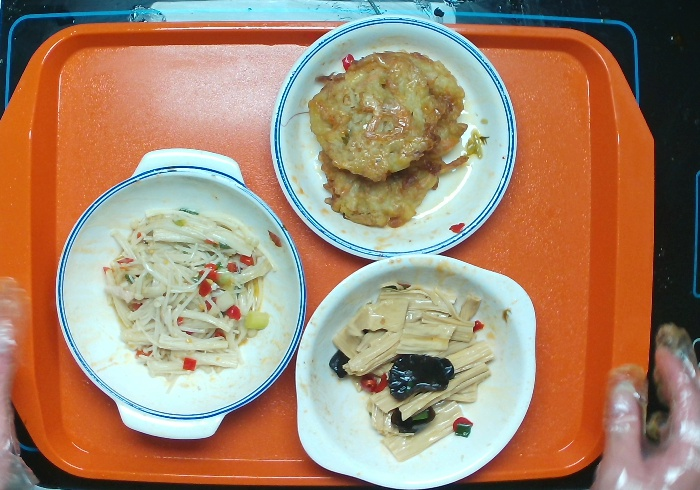HZYJPL-Dai_Er_Bai_Yuan_Wan: (291, 251, 540, 490)
HZYJPL-Lan_Bian_Dai_Er_Wan: (53, 145, 308, 442)
HZYJPL-Lan_Bian_Yuan_Die: (269, 13, 520, 264)
